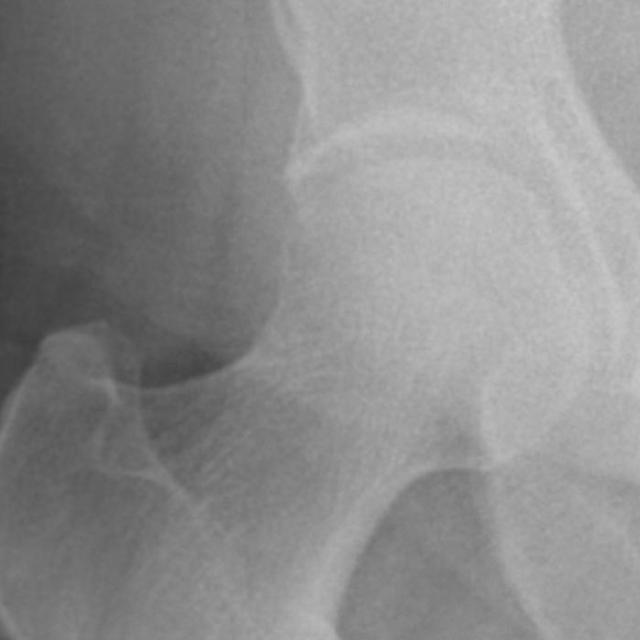Fitted_femural_head: (317, 160, 432, 317)
